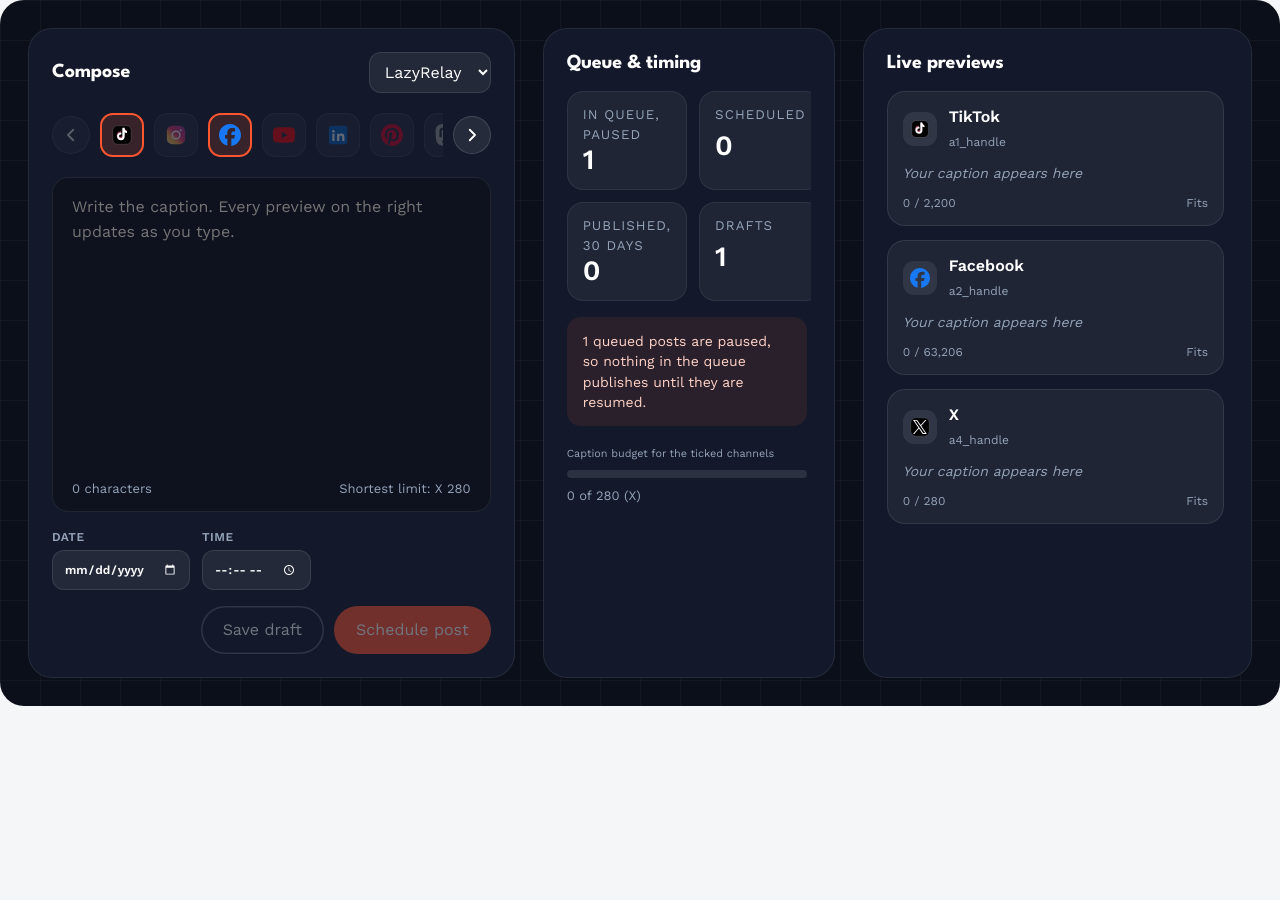
Test: brand dropdown and connected state › clicking a channel that is not connected explains how to connect it and ticks nothing
Click the button named "YouTube". click: (284, 135)
box: [262,113,306,157]
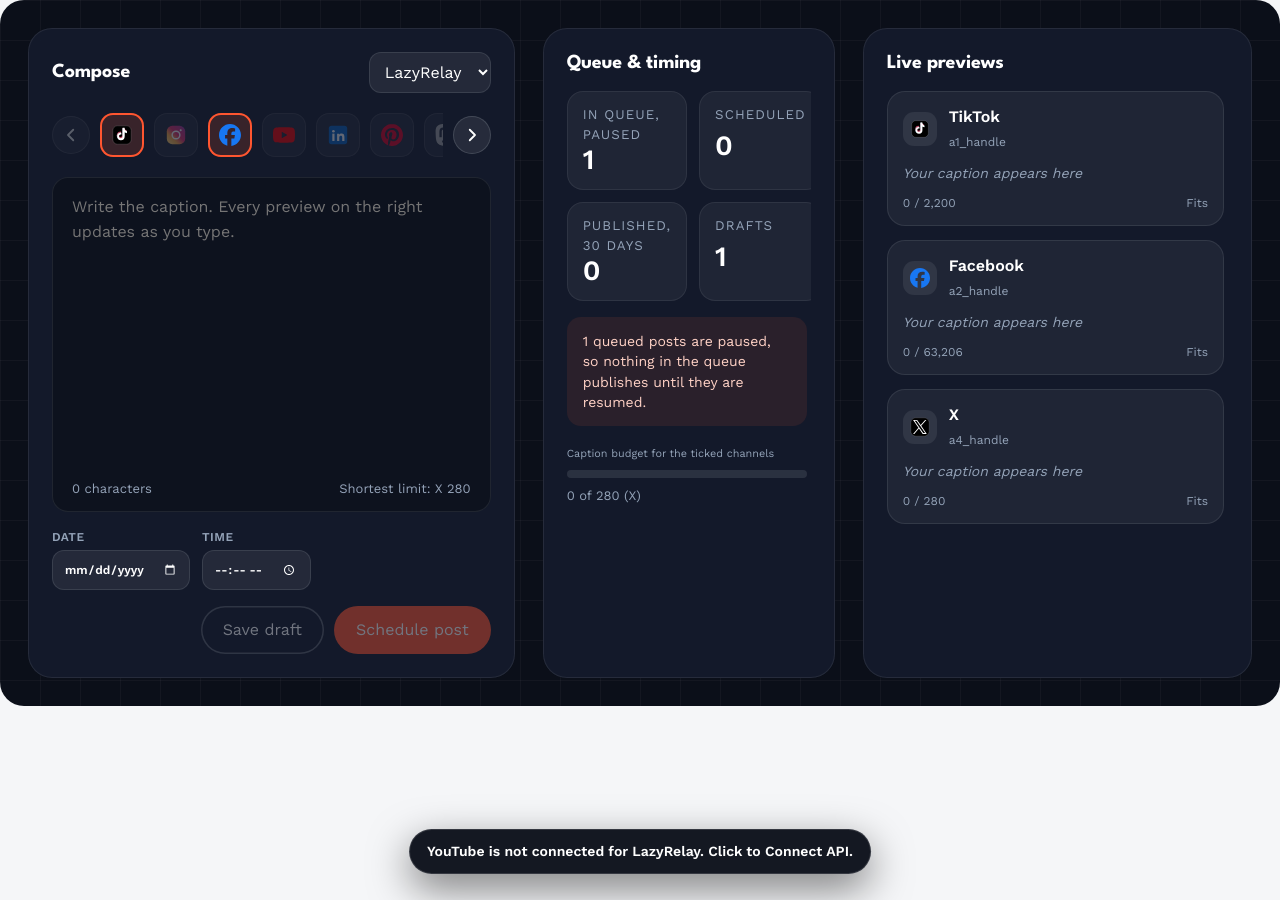
Check: the message shows "not connected for LazyRelay", box [427,843,853,859]
Check: the message shows "Click to Connect API", box [427,843,853,859]
